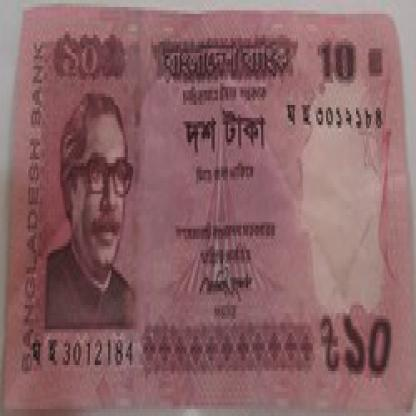Ten Taka: (341, 284, 389, 385), (63, 28, 118, 90), (318, 35, 361, 94)
